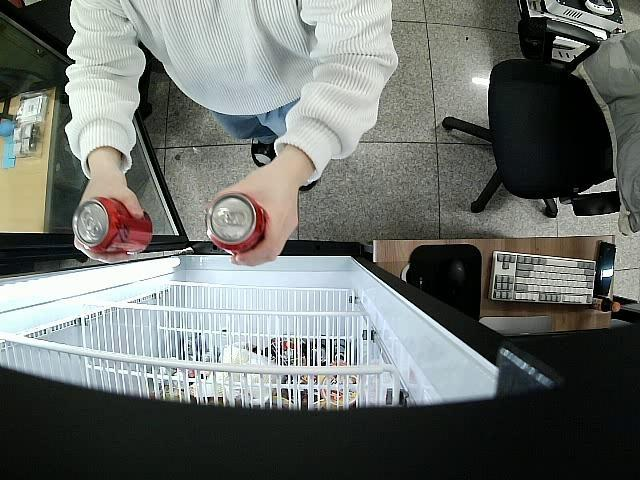11_cocaColaZero: (74, 197, 154, 257), (205, 192, 268, 254)
